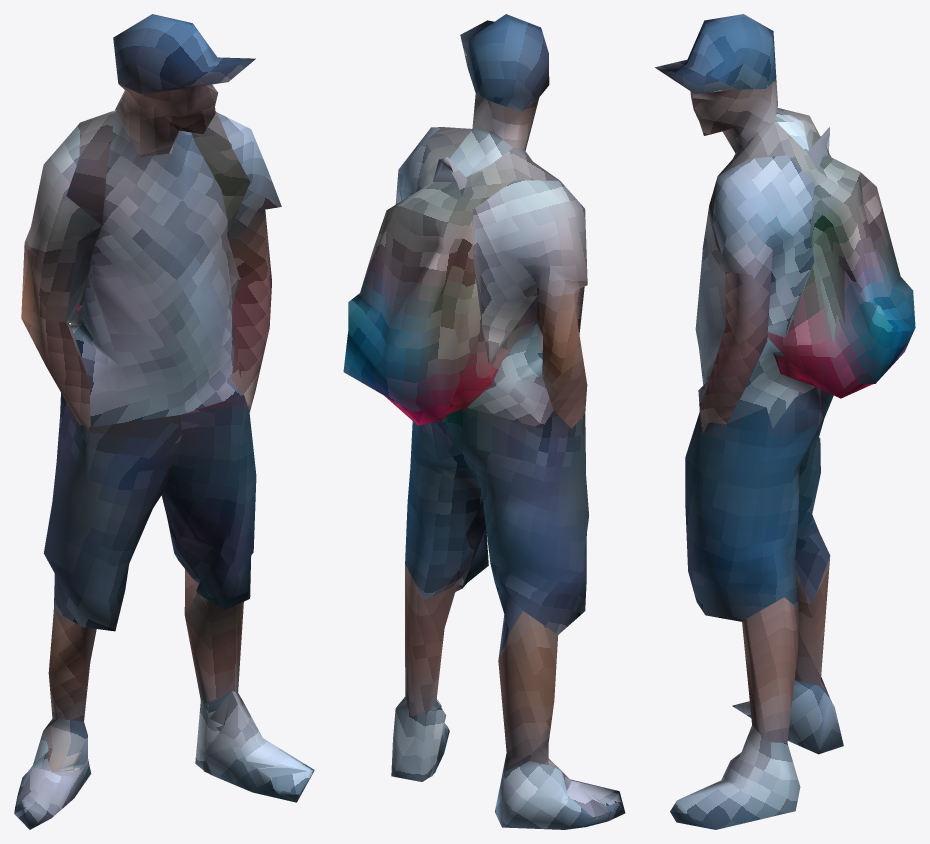
3 renders of one model, left to right at view 1: azimuth 30°, elevation 25°; view 2: azimuth 150°, elevation 25°; view 3: azimuth 270°, elevation 25°, orthographic. The views are drawn at different scales.
Parts seen in each view (by area): view 1: Object_2.001; view 2: Object_2.001; view 3: Object_2.001.
Boxes of the visible parts, x1,y1,x2,y2 form: Object_2.001: (14, 14, 314, 829); Object_2.001: (343, 14, 625, 829); Object_2.001: (655, 14, 915, 829).
Size of the model in its own units: 0.6484 by 1.91 by 0.5974.
1 material, 1 textured.
